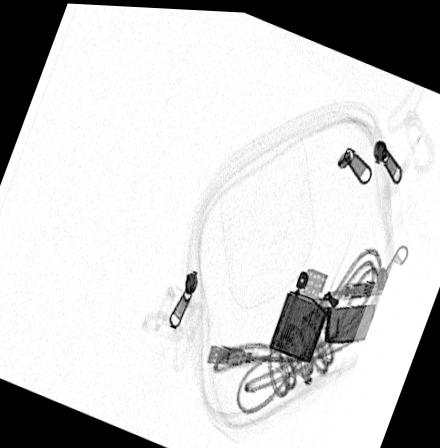Lighter: (268, 262, 376, 359)
